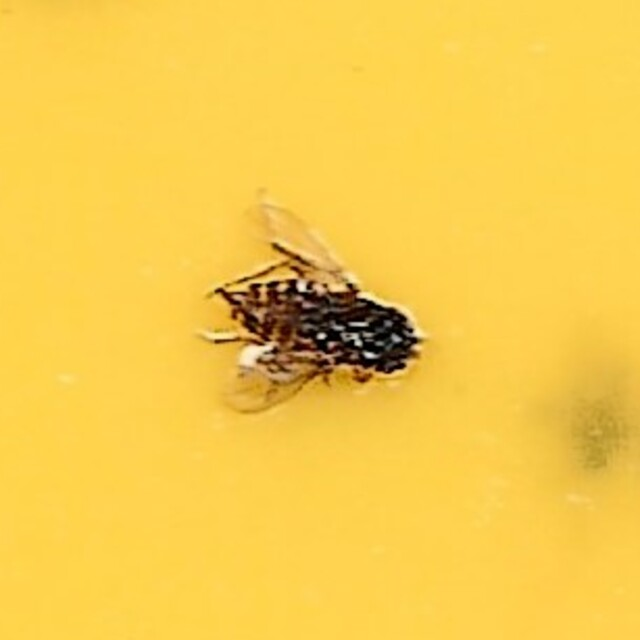Brachycera: (208, 215, 432, 425)
